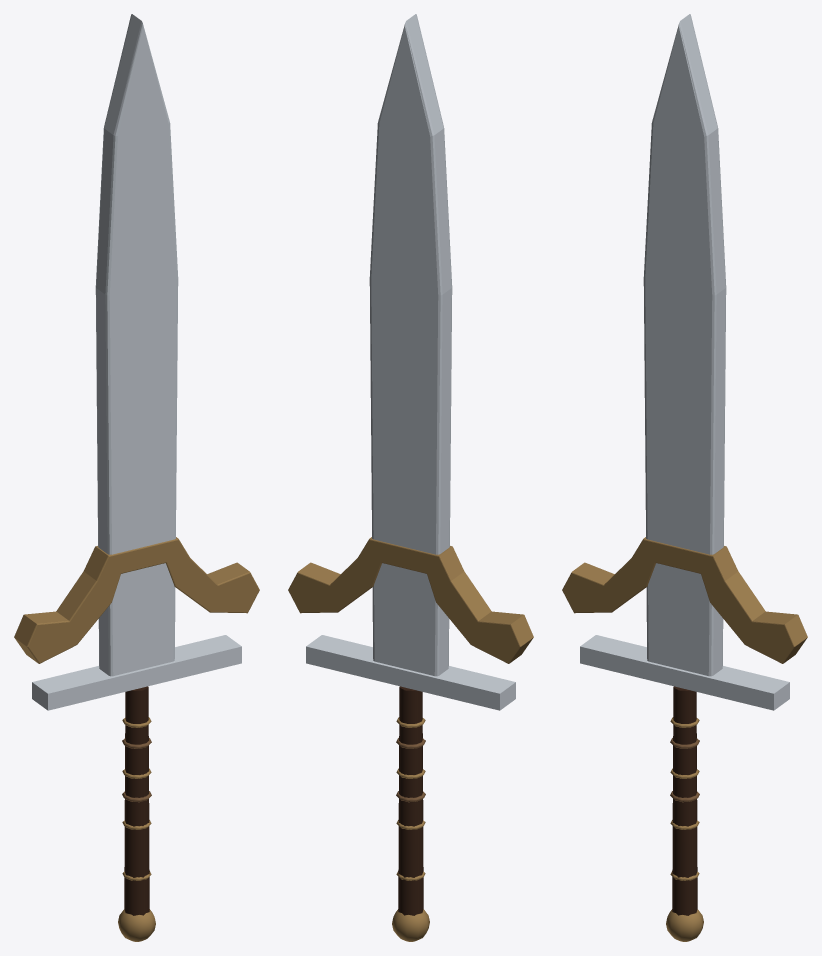
File: greatsword_f2_687315d0.glb
The picture shows the model from 3 angles, left to right: view 1: azimuth 30°, elevation 25°; view 2: azimuth 150°, elevation 25°; view 3: azimuth 330°, elevation 25°; orthographic projection.
Parts seen in each view (by area): view 1: m2_ow80_, m3_ow80_, m1_ow80_; view 2: m2_ow80_, m3_ow80_, m1_ow80_; view 3: m2_ow80_, m3_ow80_, m1_ow80_.
Part boxes in pixels (x1,y1,x2,y2): m2_ow80_: [32, 14, 241, 710]; m3_ow80_: [14, 537, 259, 941]; m1_ow80_: [124, 686, 149, 915]; m2_ow80_: [306, 14, 515, 710]; m3_ow80_: [288, 537, 533, 941]; m1_ow80_: [398, 686, 423, 915]; m2_ow80_: [580, 14, 789, 710]; m3_ow80_: [562, 537, 807, 941]; m1_ow80_: [672, 686, 697, 915].
Size of the model in its own units: 1.01 by 3.82 by 0.137.
